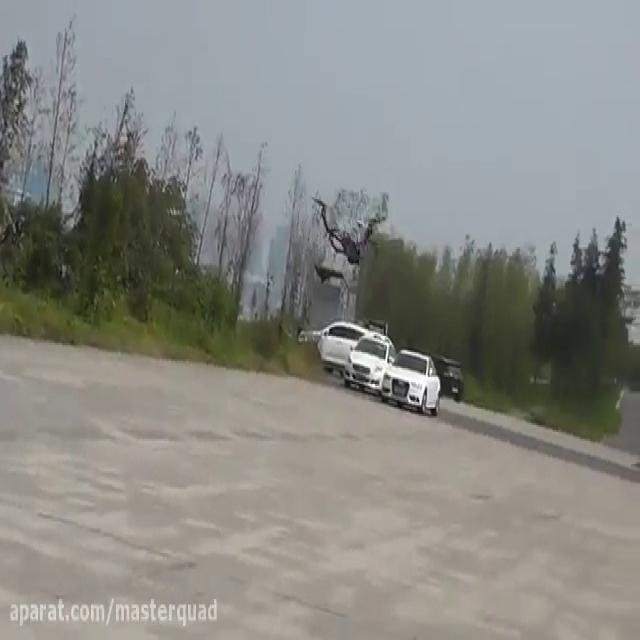drone: (311, 192, 388, 270)
